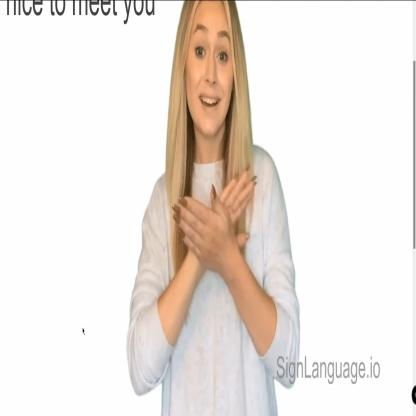NiceToMeetYou: (169, 157, 254, 296)
